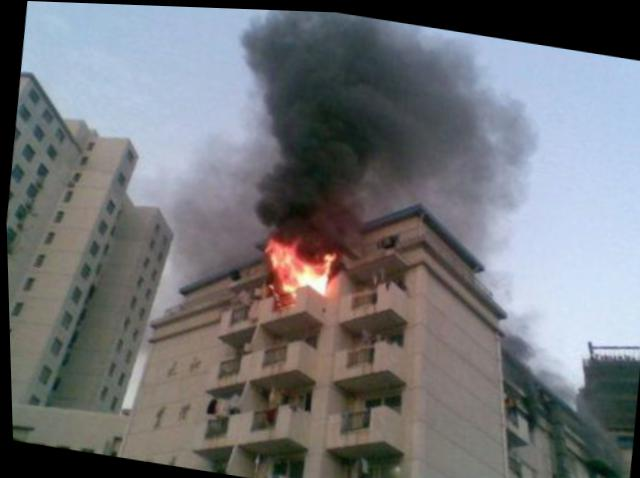fire: (278, 255, 330, 293), (264, 234, 293, 265)
